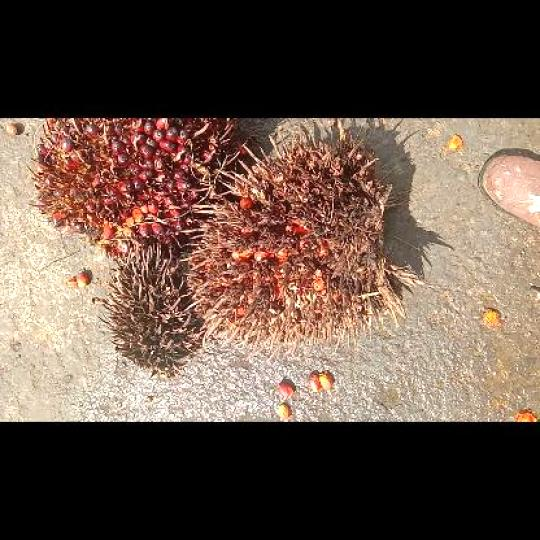masak: (28, 118, 234, 258)
terlalu masak: (178, 123, 411, 357)
